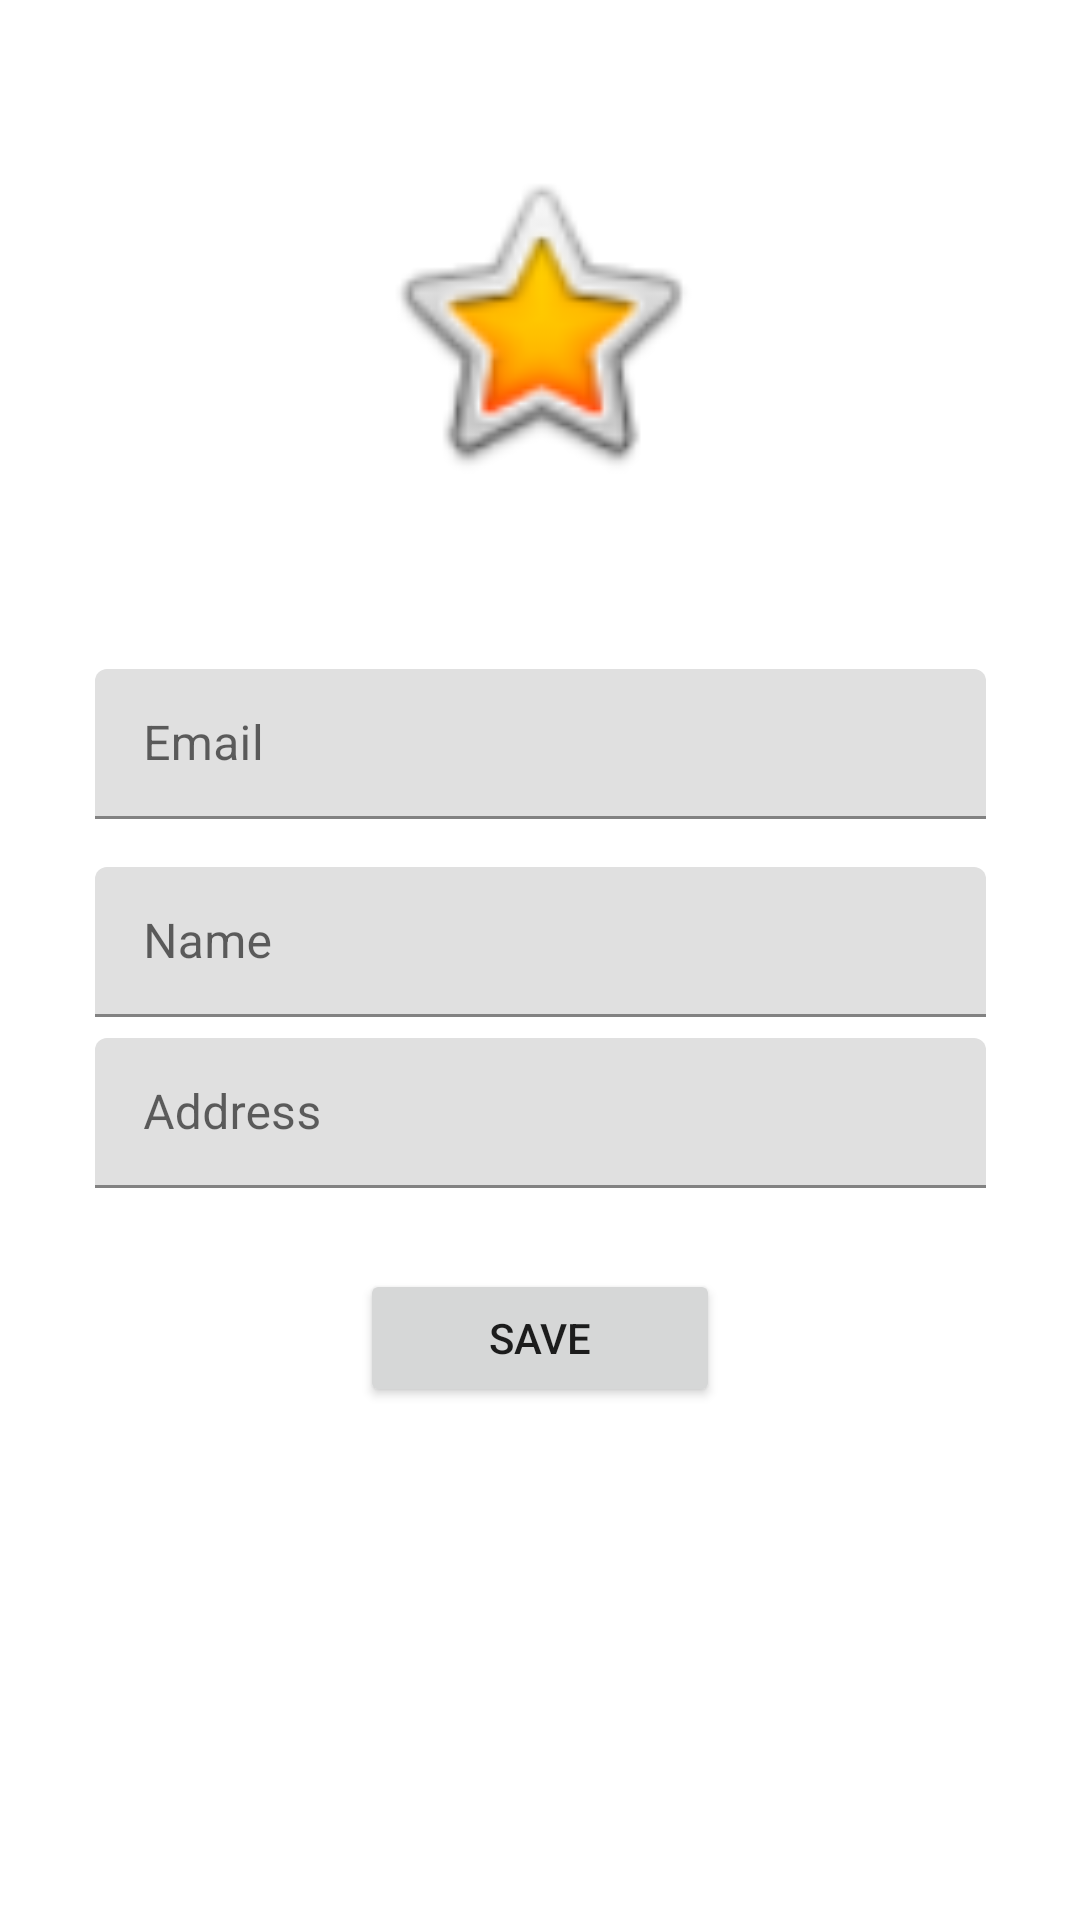

Icons on this 1080×1920 Android screen, each with its box as [x1=x1, y1=y1, x2=x2, y2=y2]:
star on: [x1=401, y1=188, x2=682, y2=462]
